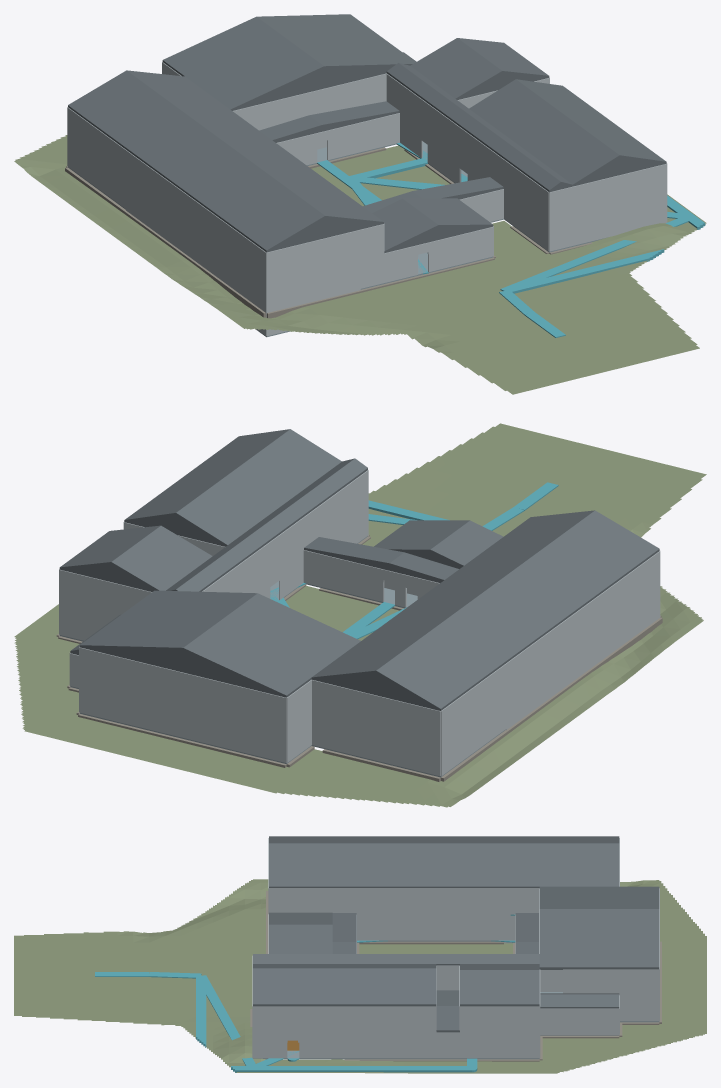
The model's file is enclosed-roofs.glb.
3 views of the same model, one above another, from view 1: azimuth 30°, elevation 25°; view 2: azimuth 150°, elevation 25°; view 3: azimuth 270°, elevation 25° (orthographic). The views are drawn at different scales.
Parts seen in each view (by area): view 1: Saved editor circulation terrain ACADEMY, west-residential-library roof west, north-dormitory roof west, west-residential-library roof east, east-teaching-stair roof west, north-dormitory roof east, Wall upper-east W, Wall upper-north S, east-cloister-spine roof west, east-teaching-stair roof east, science-upper roof west, Wall upper-main-stair S (+38 smaller); view 2: Saved editor circulation terrain ACADEMY, west-residential-library roof west, north-dormitory roof west, west-residential-library roof east, east-teaching-stair roof west, north-dormitory roof east, Wall upper-east W, east-teaching-stair roof east, east-cloister-spine roof west, science-upper roof west, Flat route shell Wall south N.001, Wall restricted N (+42 smaller); view 3: Saved editor circulation terrain ACADEMY, west-residential-library roof east, north-dormitory roof east, Flat route shell Wall upper-west E.001, east-teaching-stair roof east, Flat route shell Wall west E.001, east-cloister-spine roof east, science-upper roof east, Wall lecture E, Wall study E, west-residential-library roof west, north-dormitory roof west (+23 smaller).
Boxes of the visible parts, left/top/right/bottom form: Saved editor circulation terrain ACADEMY: left=14, top=135, right=706, bottom=394; west-residential-library roof west: left=68, top=70, right=325, bottom=252; north-dormitory roof west: left=162, top=16, right=324, bottom=110; west-residential-library roof east: left=127, top=70, right=383, bottom=223; east-teaching-stair roof west: left=469, top=79, right=619, bottom=185; north-dormitory roof east: left=257, top=14, right=415, bottom=67; Wall upper-east W: left=386, top=74, right=549, bottom=221; Wall upper-north S: left=233, top=73, right=386, bottom=130; east-cloister-spine roof west: left=386, top=63, right=560, bottom=191; east-teaching-stair roof east: left=516, top=79, right=666, bottom=163; science-upper roof west: left=410, top=38, right=502, bottom=99; Wall upper-main-stair S: left=266, top=229, right=360, bottom=281; Saved editor circulation terrain ACADEMY: left=14, top=423, right=706, bottom=807; west-residential-library roof west: left=376, top=510, right=659, bottom=710; north-dormitory roof west: left=183, top=593, right=360, bottom=697; west-residential-library roof east: left=311, top=510, right=594, bottom=679; east-teaching-stair roof west: left=176, top=429, right=341, bottom=546; north-dormitory roof east: left=80, top=590, right=257, bottom=649; Wall upper-east W: left=202, top=470, right=368, bottom=592; east-teaching-stair roof east: left=124, top=429, right=289, bottom=521; east-cloister-spine roof west: left=176, top=458, right=367, bottom=591; science-upper roof west: left=111, top=525, right=212, bottom=590; Flat route shell Wall south N.001: left=303, top=550, right=384, bottom=601; Wall restricted N: left=59, top=569, right=151, bottom=616; Saved editor circulation terrain ACADEMY: left=14, top=879, right=706, bottom=1073; west-residential-library roof east: left=269, top=843, right=619, bottom=888; north-dormitory roof east: left=539, top=909, right=659, bottom=968; Flat route shell Wall upper-west E.001: left=269, top=888, right=539, bottom=914; east-teaching-stair roof east: left=253, top=968, right=436, bottom=1005; Flat route shell Wall west E.001: left=357, top=914, right=515, bottom=940; east-cloister-spine roof east: left=253, top=954, right=539, bottom=965; science-upper roof east: left=460, top=970, right=539, bottom=1005; Wall lecture E: left=332, top=1032, right=436, bottom=1058; Wall study E: left=332, top=1006, right=436, bottom=1032; west-residential-library roof west: left=269, top=836, right=619, bottom=843; north-dormitory roof west: left=539, top=886, right=659, bottom=908.
Size of the model in its own units: 58 by 13.1 by 87.
